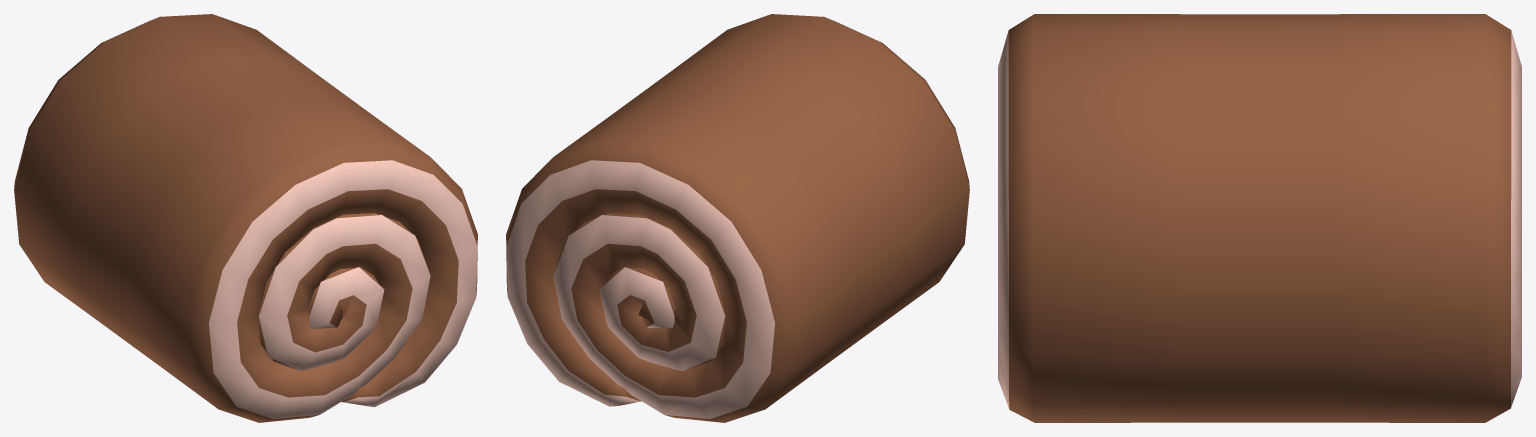
The model's file is candy_assets6.fbx.
3 renders of one model, left to right at view 1: azimuth 30°, elevation 25°; view 2: azimuth 150°, elevation 25°; view 3: azimuth 270°, elevation 25°, orthographic. The views are drawn at different scales.
Visible parts, largest first — view 1: candy_assets6; view 2: candy_assets6; view 3: candy_assets6.
Boxes of the visible parts, x1,y1,x2,y2 form: candy_assets6: [14, 14, 477, 422]; candy_assets6: [506, 14, 969, 422]; candy_assets6: [998, 14, 1521, 422].
Size of the model in its own units: 461 by 410 by 556.
Materials: 1 (1 with a texture image).
